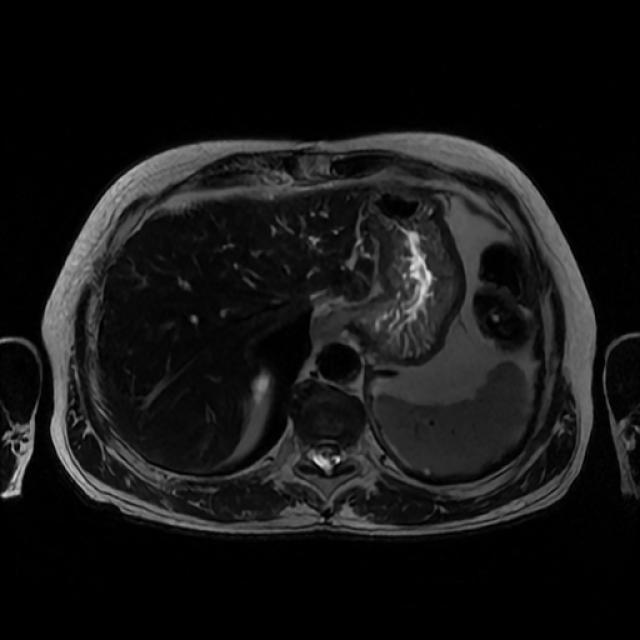sag: (255, 370, 274, 402)
